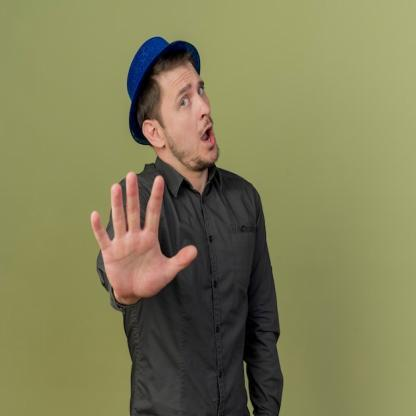stop: (86, 166, 200, 304)
